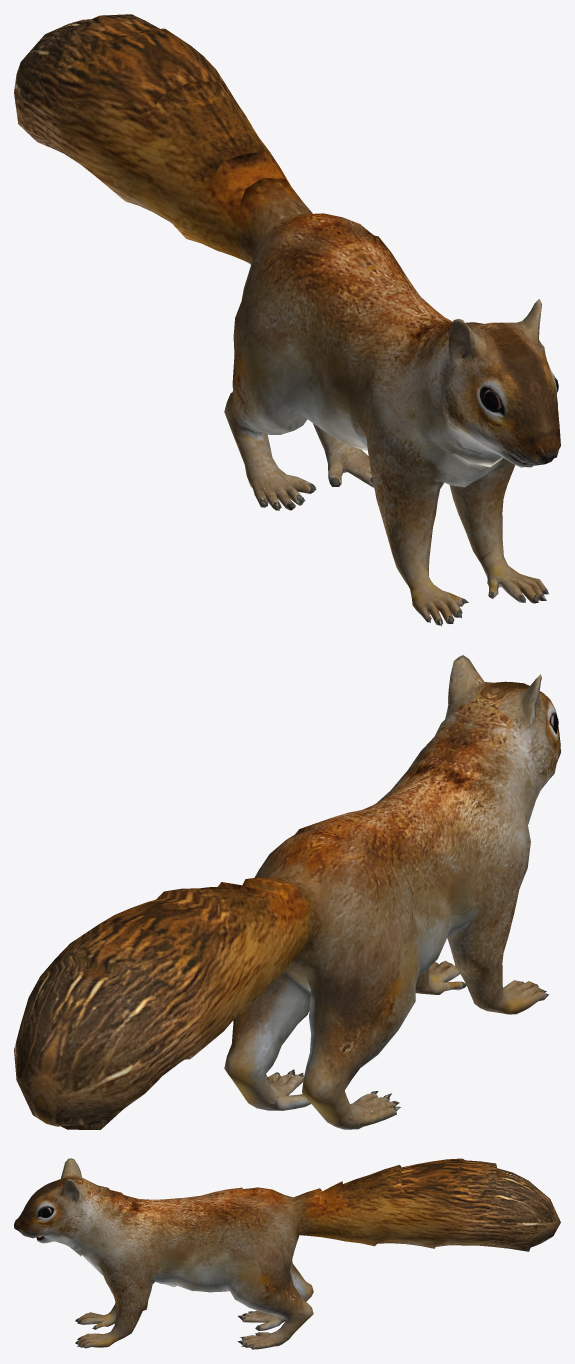
Rendered from ecureuil.gltf.
3 views of the same model, one above another, from view 1: azimuth 30°, elevation 25°; view 2: azimuth 150°, elevation 25°; view 3: azimuth 270°, elevation 25° (orthographic). The views are drawn at different scales.
Visible parts, largest first — view 1: sm_1_0_0; view 2: sm_1_0_0; view 3: sm_1_0_0.
Part boxes in pixels (x1,y1,x2,y2): sm_1_0_0: (14, 14, 560, 626); sm_1_0_0: (14, 655, 560, 1129); sm_1_0_0: (14, 1158, 560, 1349).
Size of the model in its own units: 0.0762 by 0.1458 by 0.425.
2 materials, 2 textured.
